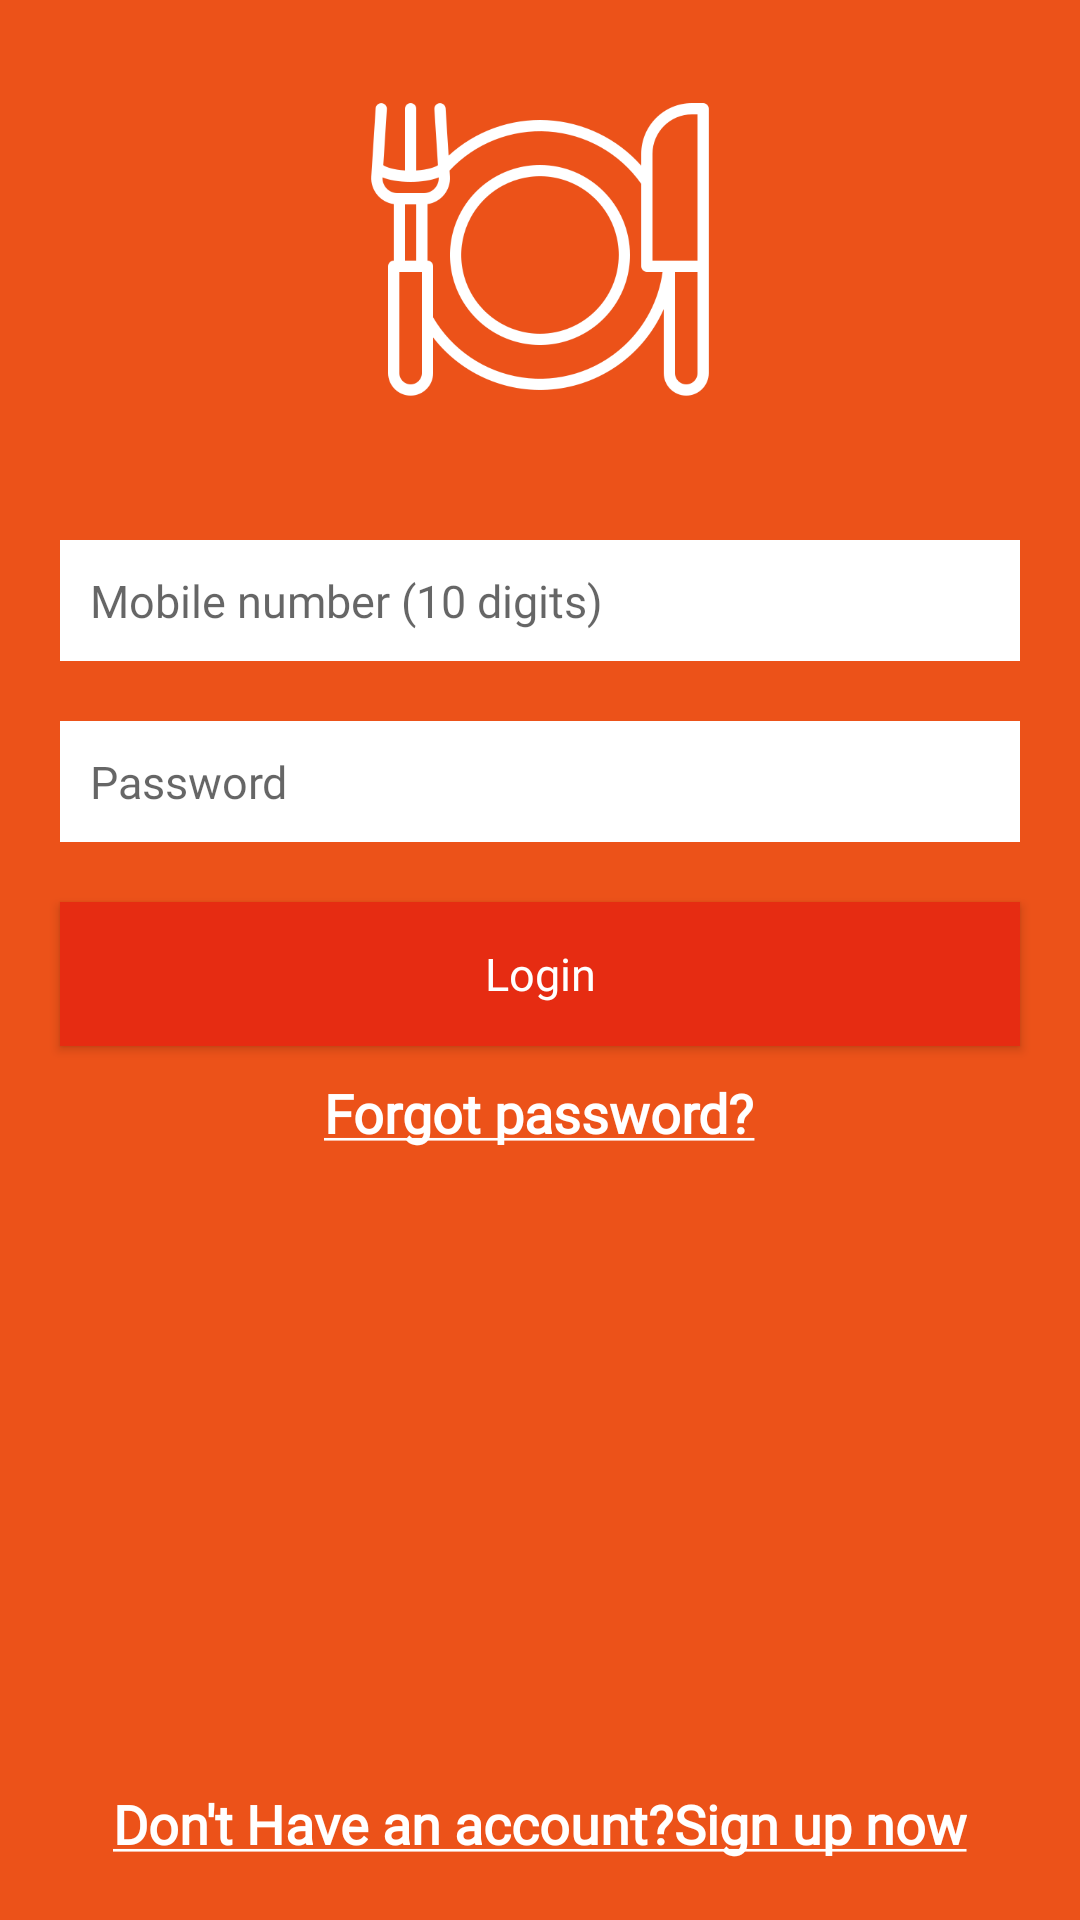

Named icons in this screenshot (1080×1920) and their centers, [x,y]:
dinner: [540,249]
